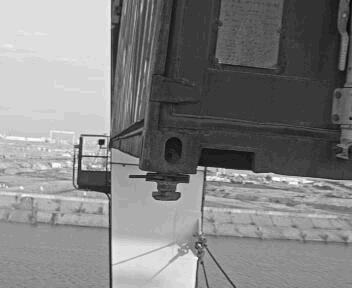twist_lock_1: (141, 169, 193, 209)
